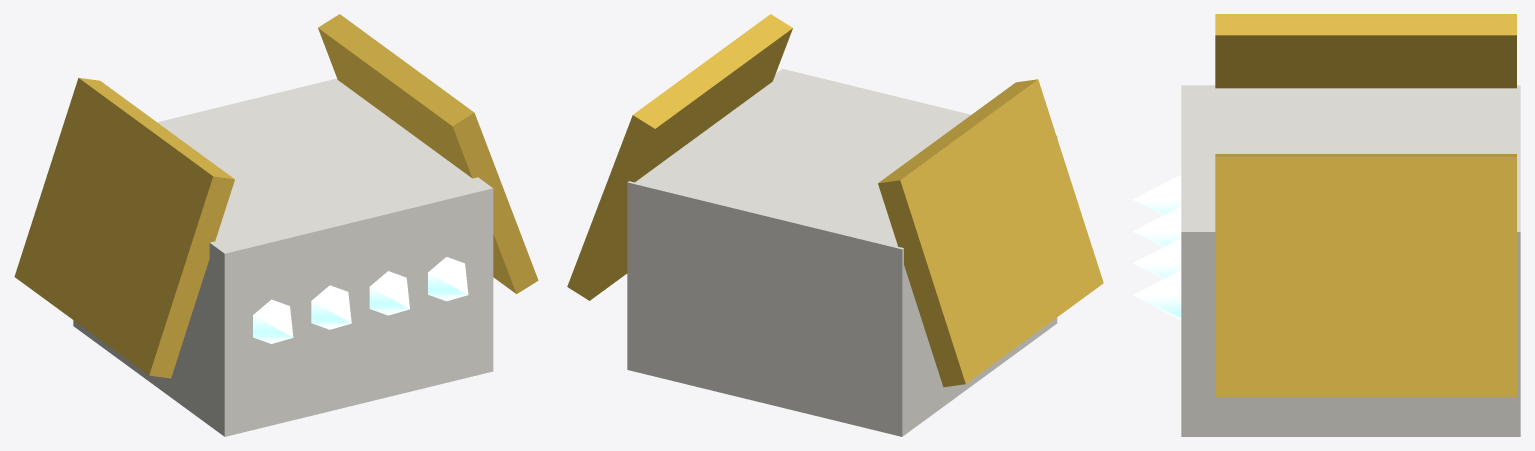
The model's file is wpn_alpha_aurora.glb.
The picture shows the model from 3 angles, left to right: view 1: azimuth 30°, elevation 25°; view 2: azimuth 150°, elevation 25°; view 3: azimuth 270°, elevation 25°; orthographic projection. The views are drawn at different scales.
Visible parts, largest first — view 1: weapon; view 2: weapon; view 3: weapon.
Boxes of the visible parts, box(x1,y1,x2,y2) form: weapon: box(14, 14, 538, 436); weapon: box(567, 14, 1103, 436); weapon: box(1132, 14, 1520, 436).
Bounding box in the file's own units: 0.6673 × 0.4072 × 0.515.
